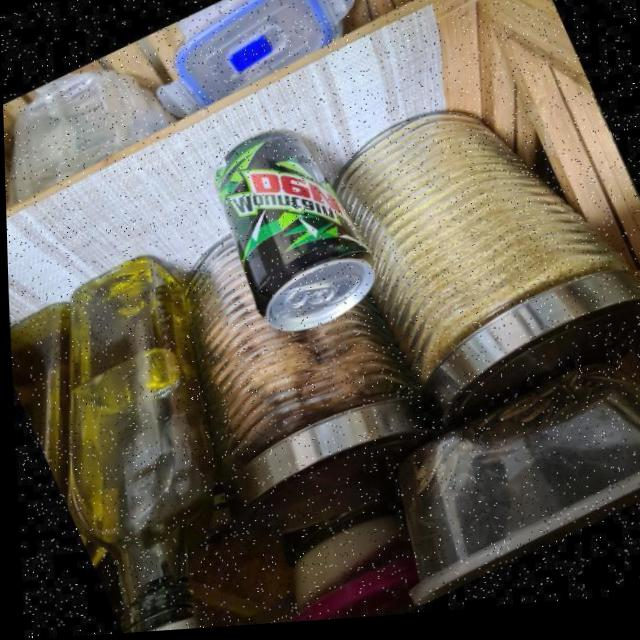metal: (400, 273, 639, 604), (216, 130, 373, 331)
